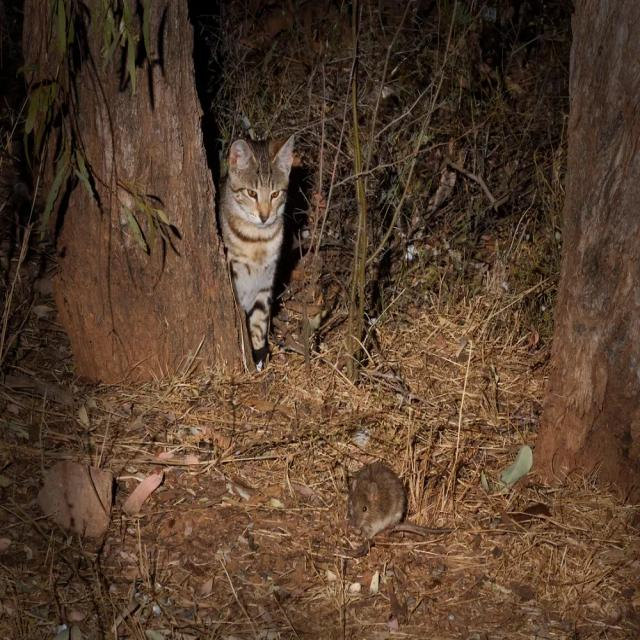cat: (219, 135, 294, 368)
